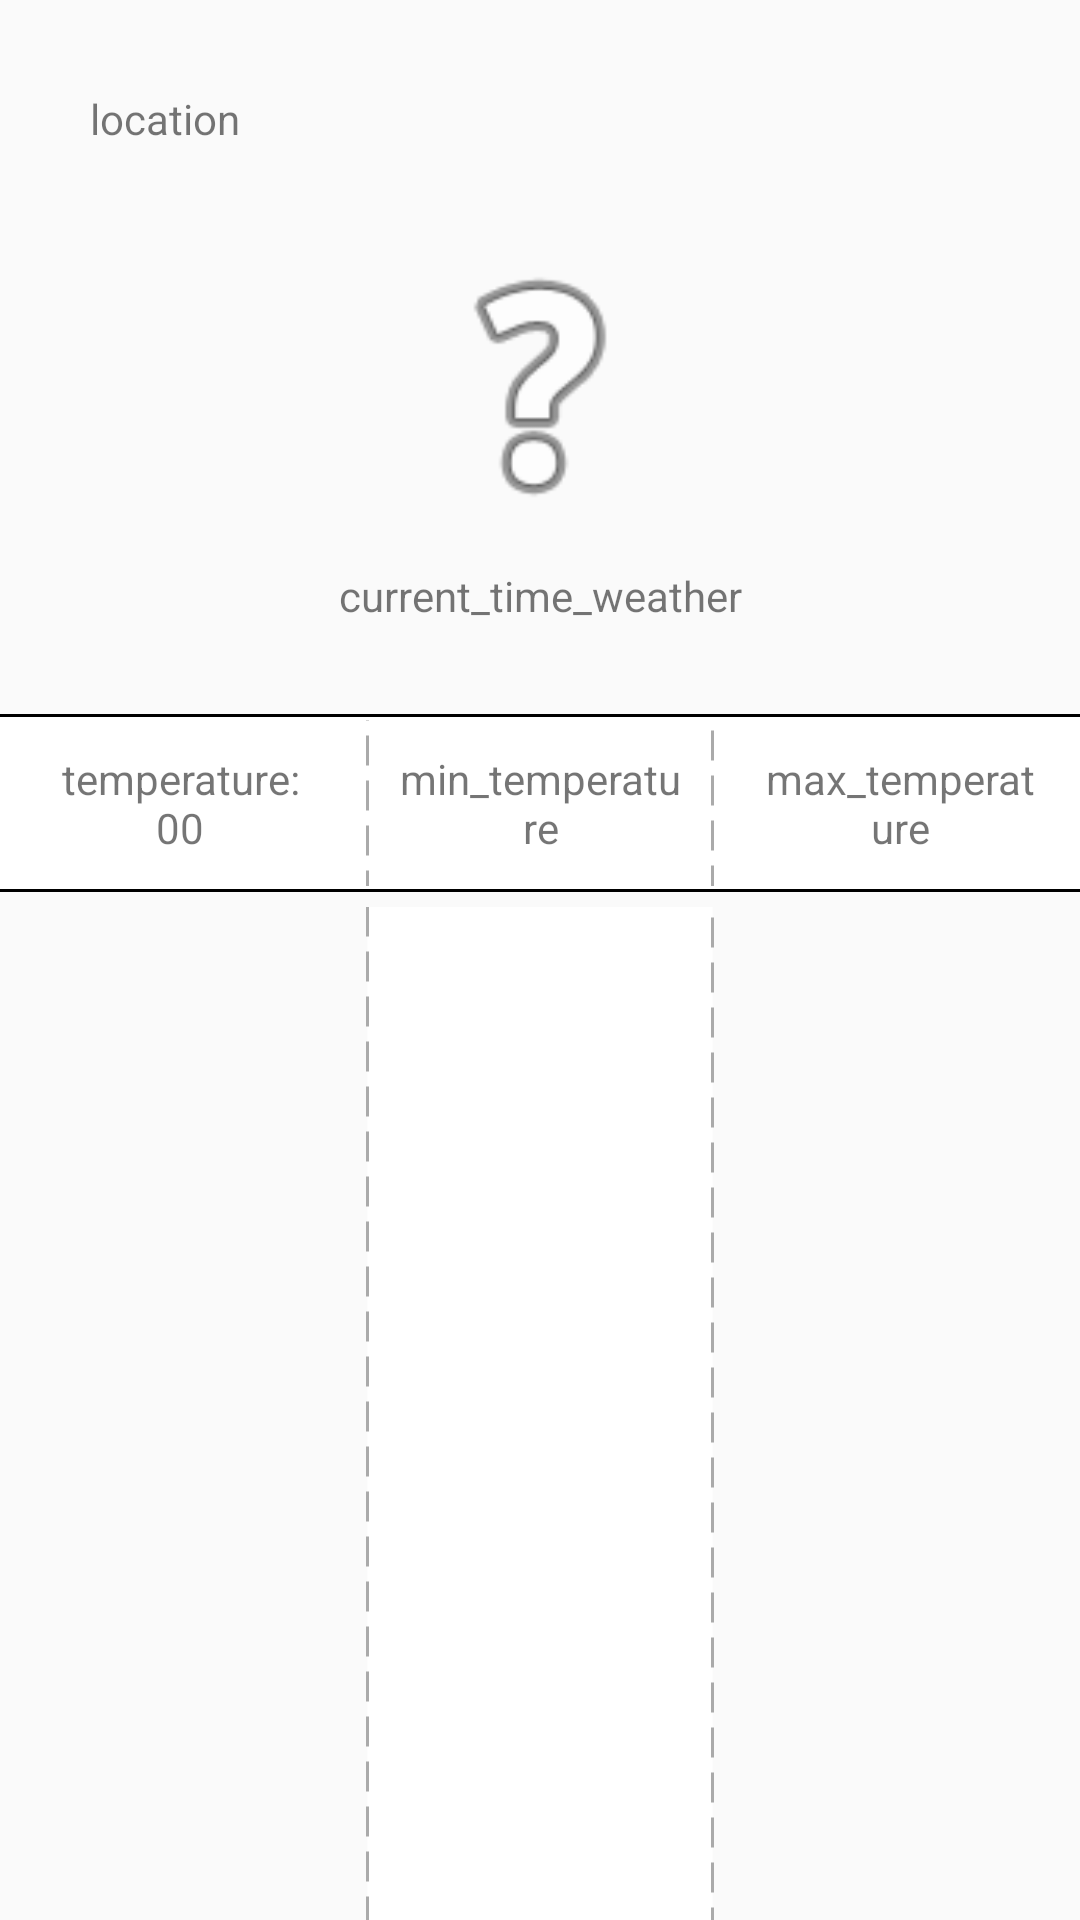

Screen size 1080 x 1920. Icon name, then its box in pixels as region(x1, y1, x2, y2):
help: region(474, 279, 606, 495)
